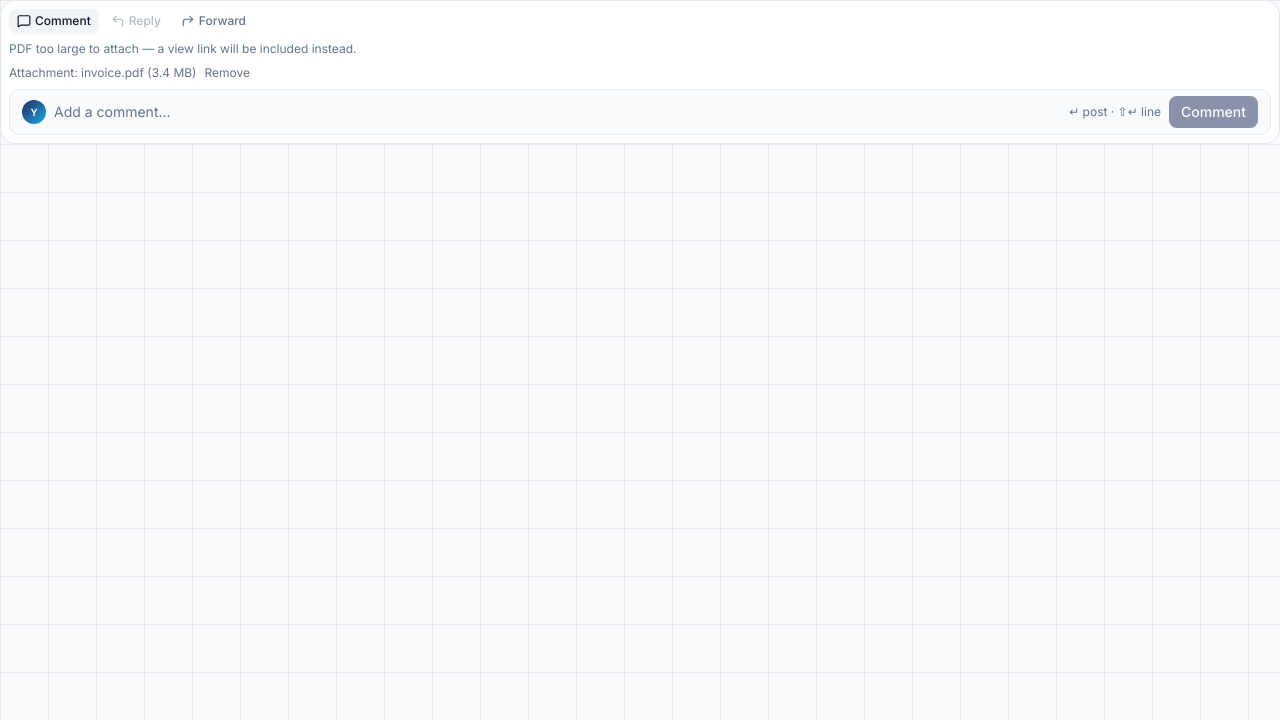
Test: CollaborationComposer › keeps the attachment fallback informational and removable
The image size is (1280, 720).
expect the text "PDF too large to attach — a view link will be included instead." is shown: met, box [9,41,356,56]
Click the button with aria-label "Remove attachment" at (227, 73), box [204,65,250,81]
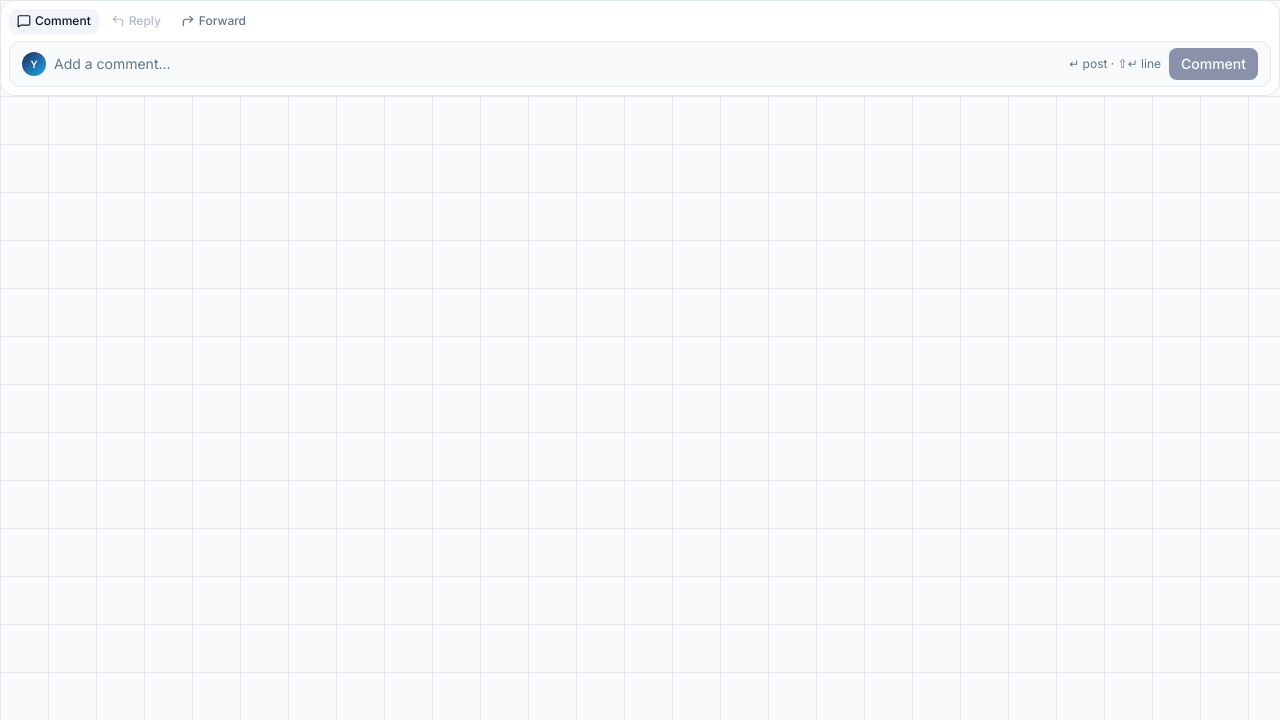
expect the text "PDF too large to attach" is gone: met
expect the text "Attachment: invoice.pdf" is gone: met
